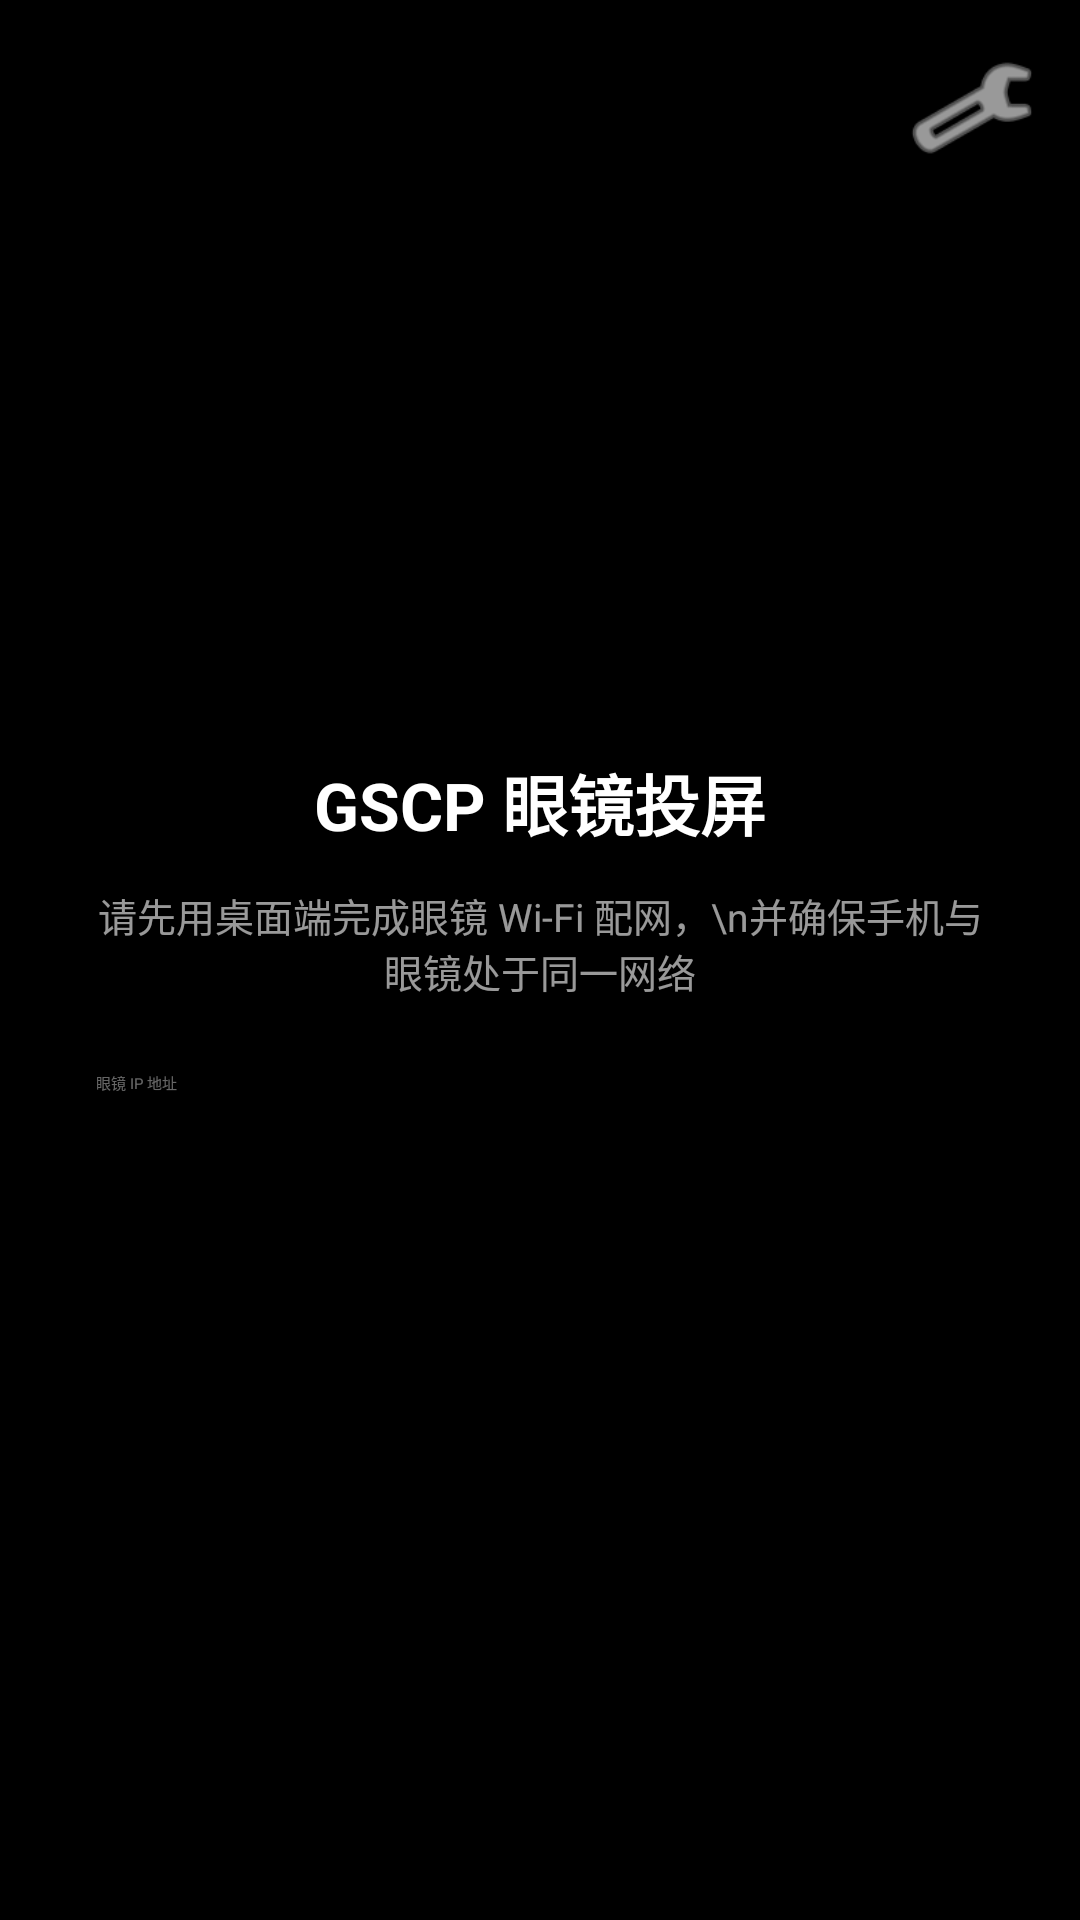

Icons on this 1080 × 1920 Android screen, each with its box as detection(x1, y1, x2, y2):
参数设置: detection(912, 63, 1031, 153)
